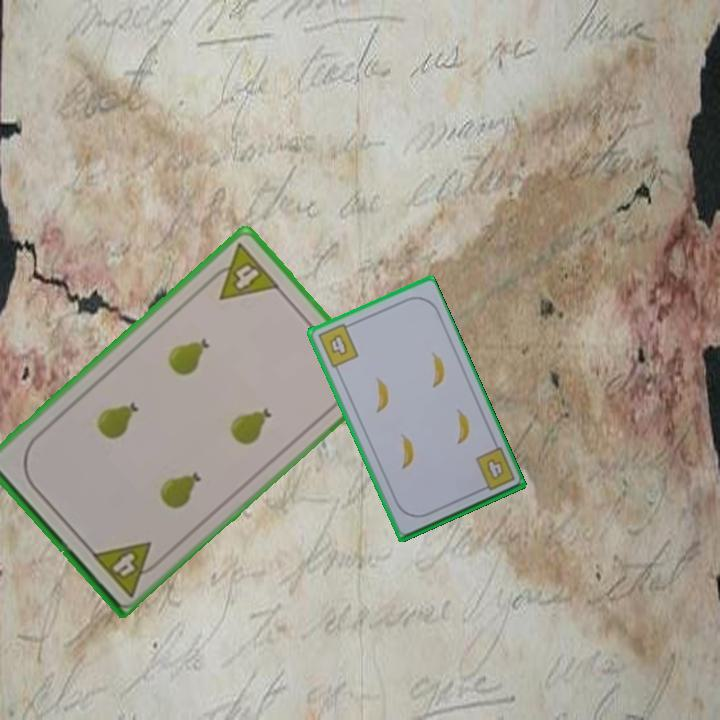4b: (314, 319, 361, 371), (472, 444, 518, 495)
4p: (202, 239, 283, 303), (88, 537, 166, 600)
